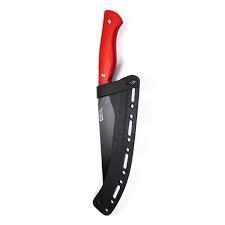Knife: (92, 9, 140, 215)
